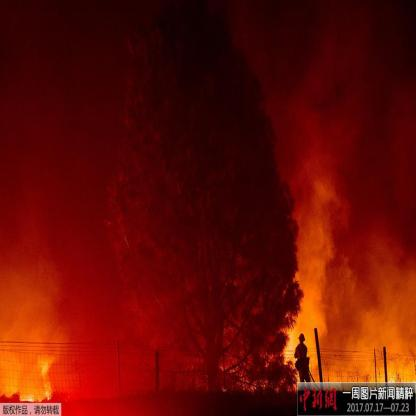fire: (284, 325, 414, 384), (1, 309, 74, 405)
